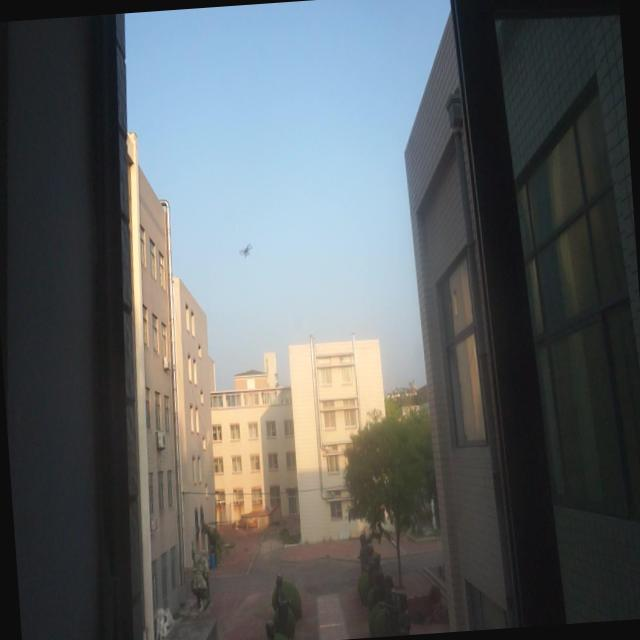drone: (238, 240, 254, 260)
